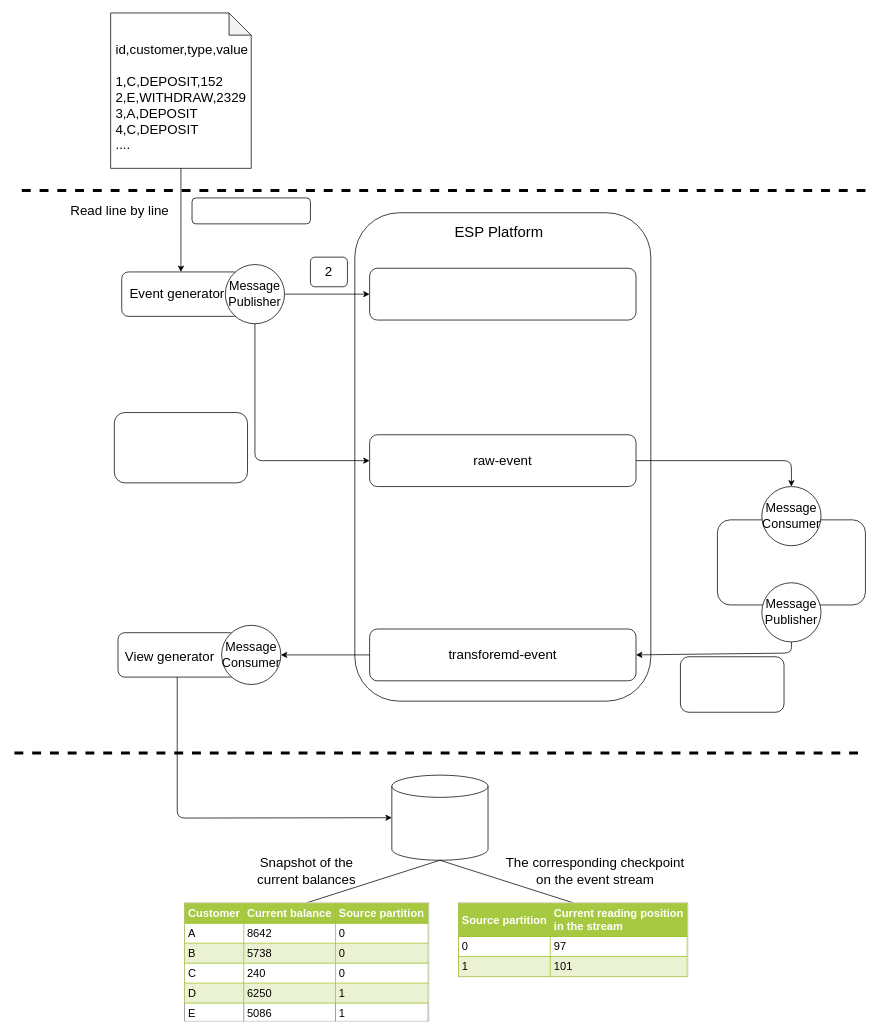
The diagram is 887 pixels wide and 1035 high, and some of its shapes have lost their labels. The shapes that lost their labels are listed below. From the top down, each one's centre as x and y in pixels, then its label:
At point 250,210: "2,E,WITHDRAW,2329".
At point 502,294: "reading-position".
At point 181,447: "{ id: 2, customer:E, type: WITHDRAW, value: 2329 }".
At point 791,562: "Stream processor".
At point 732,684: "{ id: 2, customer:E, value: - 2329 }".
At point 439,817: "Relational database".
